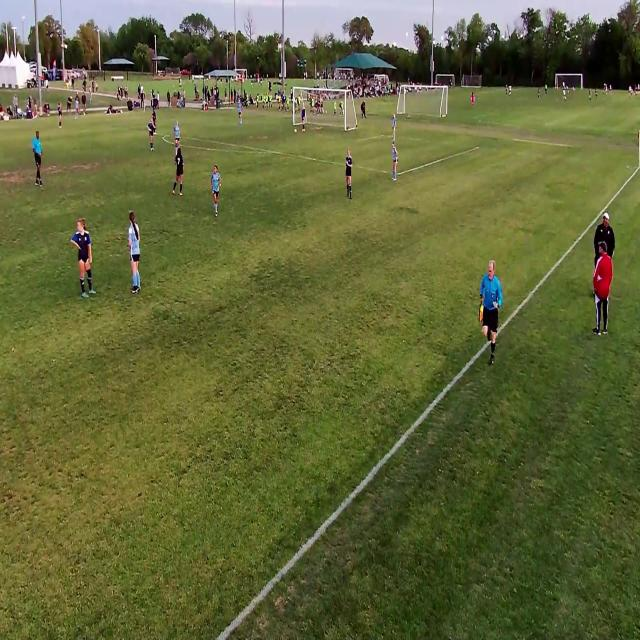ball: (294, 128, 297, 134)
team1: (75, 219, 96, 299), (172, 144, 186, 196), (344, 148, 354, 202), (300, 104, 308, 136), (58, 104, 64, 134), (149, 118, 154, 152), (152, 108, 158, 135)
team2: (128, 213, 144, 295), (212, 165, 224, 217), (173, 118, 182, 154), (392, 141, 400, 181), (391, 113, 397, 144), (238, 98, 244, 126), (74, 96, 79, 120)
